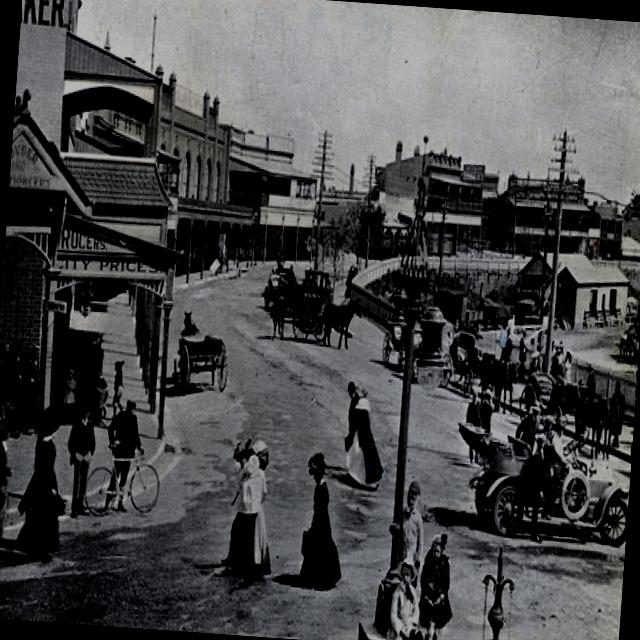Vehicle: (448, 418, 633, 552), (262, 273, 279, 314)
